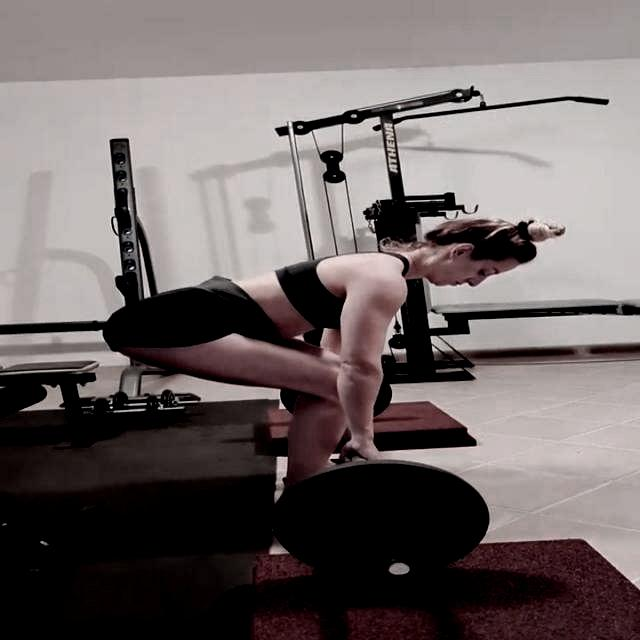barbell: (263, 457, 495, 592)
